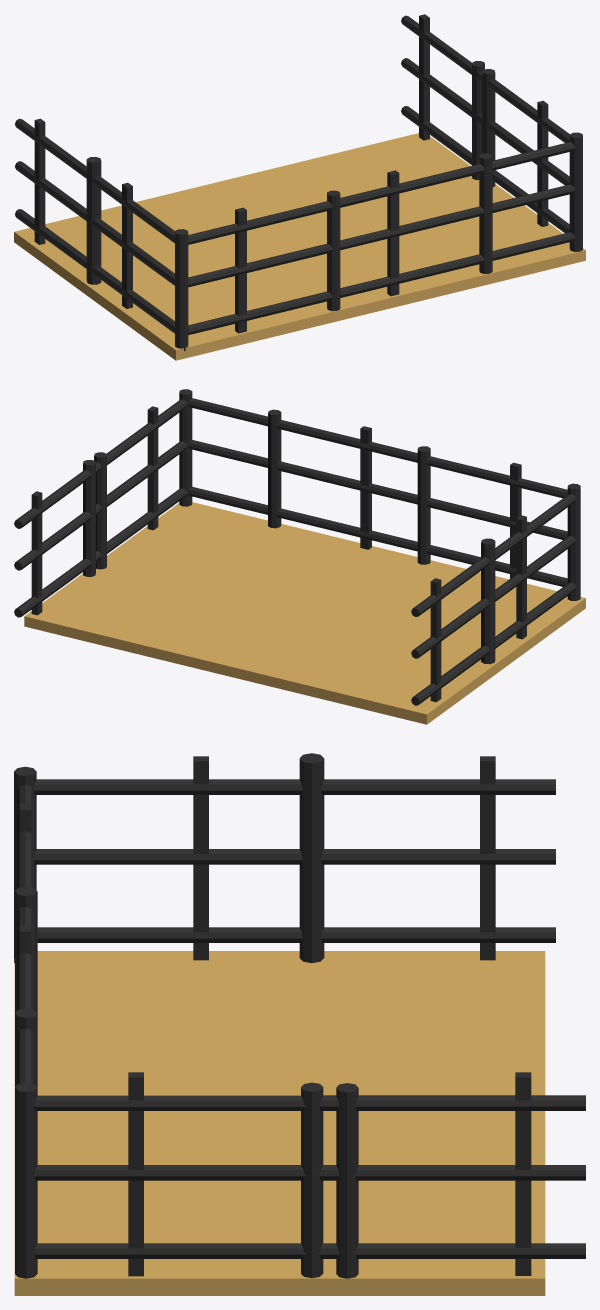
The model's file is Balcony02_house5.fbx.
The picture shows the model from 3 angles, top to bottom: view 1: azimuth 30°, elevation 25°; view 2: azimuth 150°, elevation 25°; view 3: azimuth 270°, elevation 25°; orthographic projection. The views are drawn at different scales.
Visible parts, largest first — view 1: Balcony02_House05; view 2: Balcony02_House05; view 3: Balcony02_House05.
Part boxes in pixels (x1,y1,x2,y2): Balcony02_House05: (14, 14, 585, 360); Balcony02_House05: (14, 389, 585, 724); Balcony02_House05: (14, 753, 585, 1295).
Size of the model in its own units: 609 by 188 by 449.
